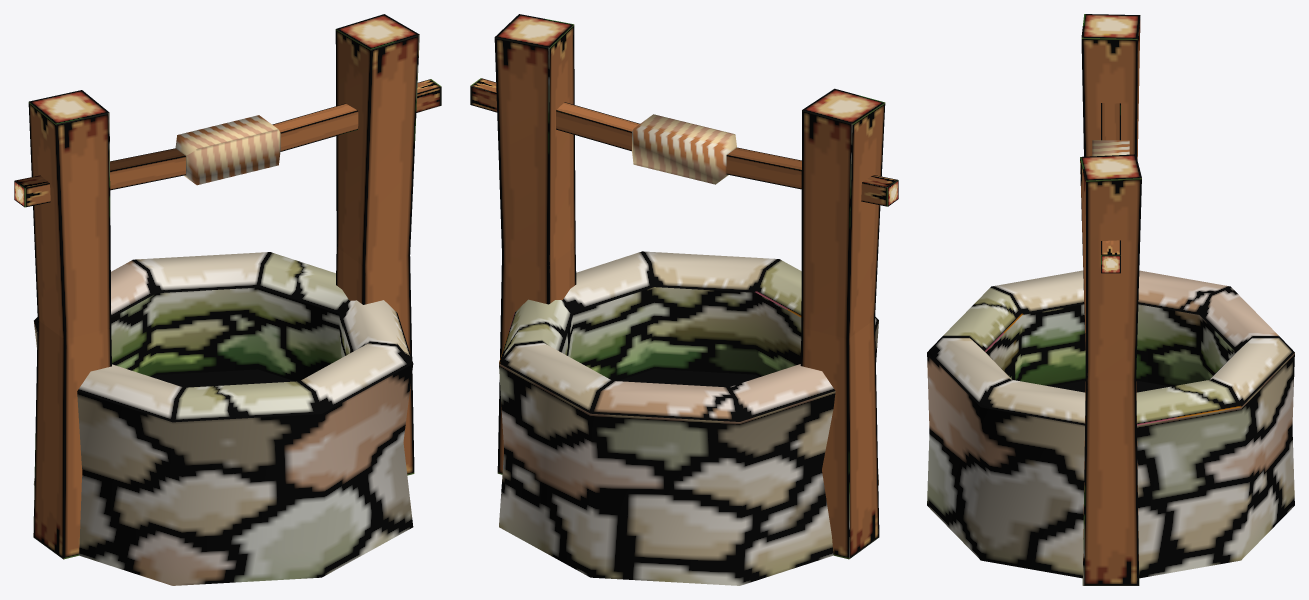
Rendered from deco_well.FBX.
The picture shows the model from 3 angles, left to right: view 1: azimuth 30°, elevation 25°; view 2: azimuth 150°, elevation 25°; view 3: azimuth 270°, elevation 25°; orthographic projection. The views are drawn at different scales.
Visible parts, largest first — view 1: deco_well; view 2: deco_well; view 3: deco_well.
Boxes of the visible parts, x1,y1,x2,y2 form: deco_well: [14, 14, 441, 585]; deco_well: [470, 14, 898, 585]; deco_well: [927, 14, 1294, 585].
Bounding box in the file's own units: 4 × 4 × 3.26.
1 material, 1 textured.
